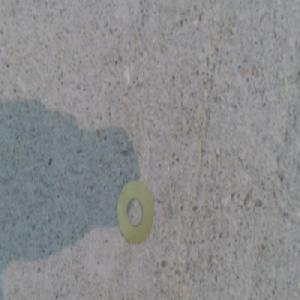Washer: (115, 177, 154, 245)
